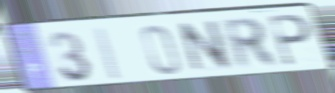0: (140, 23, 182, 77)
3: (47, 28, 94, 84)
I: (91, 25, 125, 83)
N: (176, 18, 234, 75)
P: (267, 13, 315, 68)
R: (220, 16, 283, 72)
